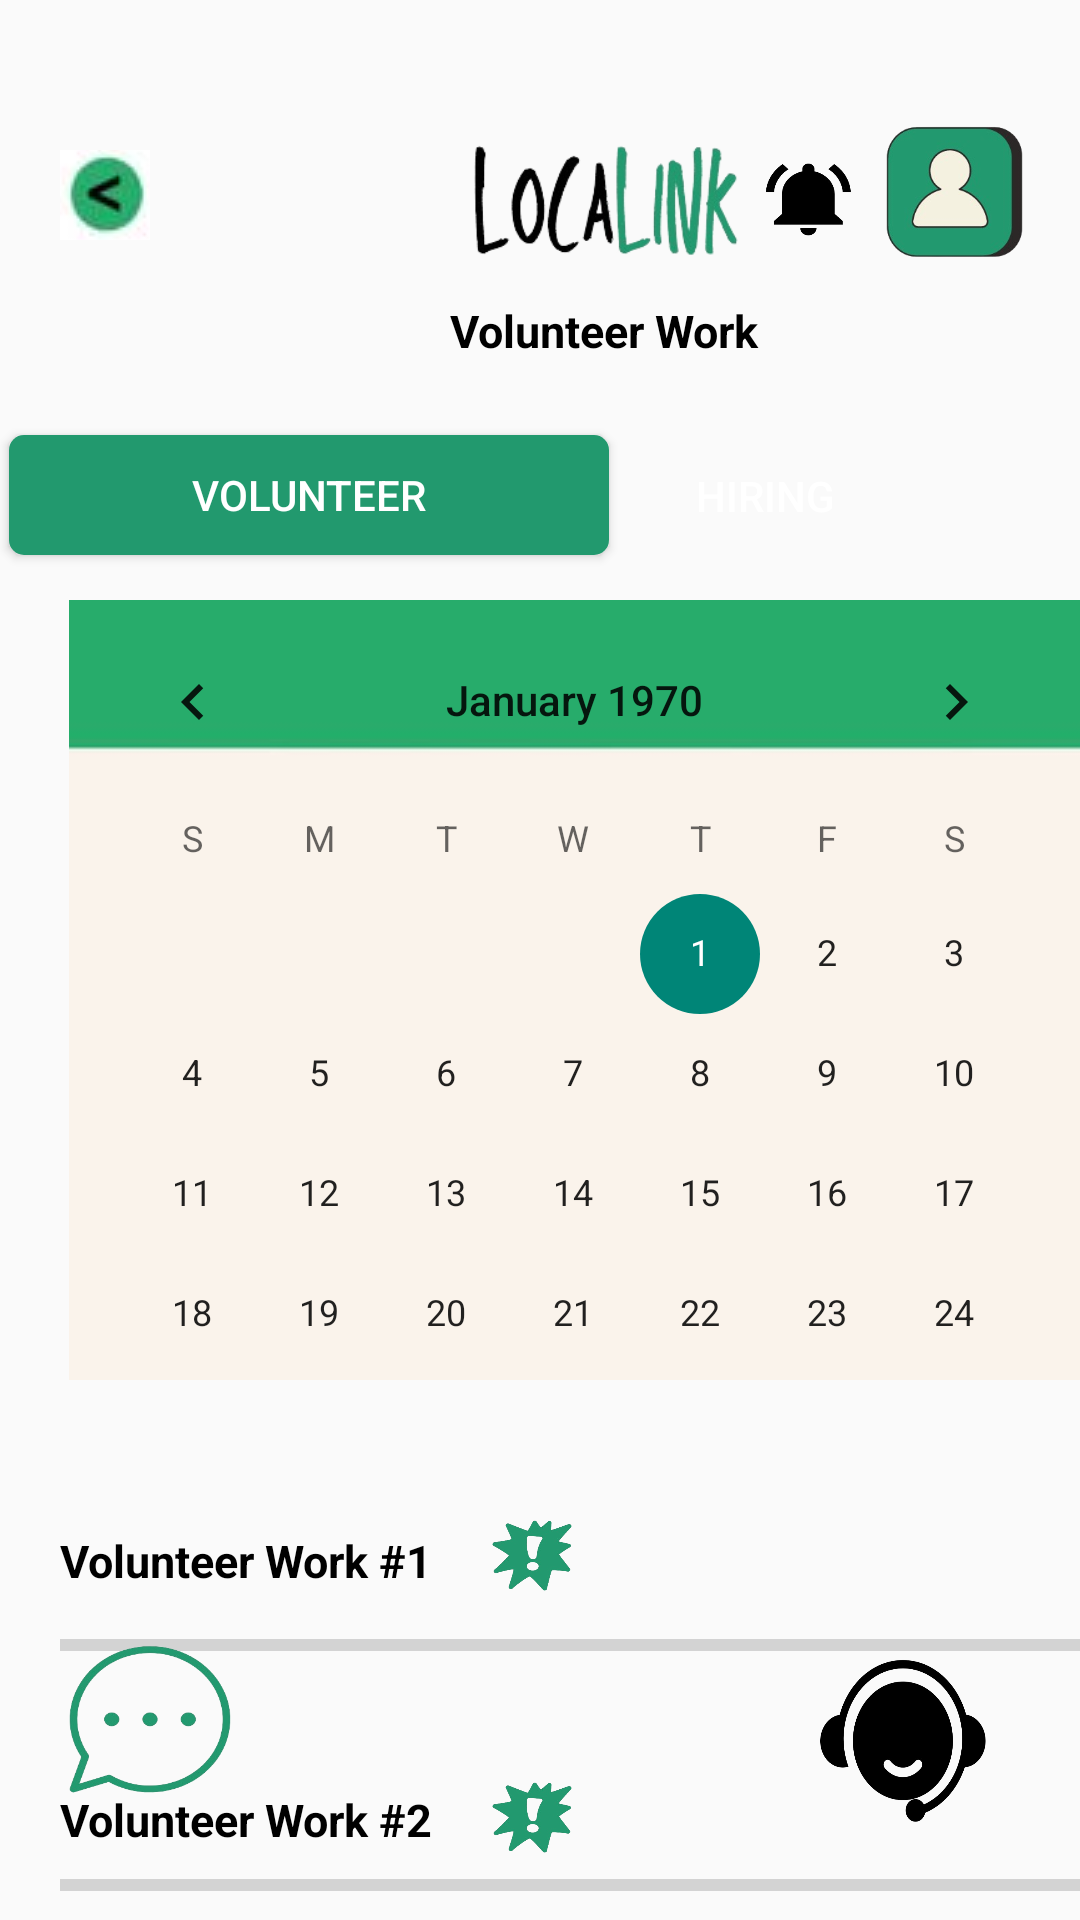

Icon click points for this 1080px×1920px phone screenshot, format (x=x, y=y):
backbtn: (x=106, y=194)
customer support: (x=903, y=1741)
